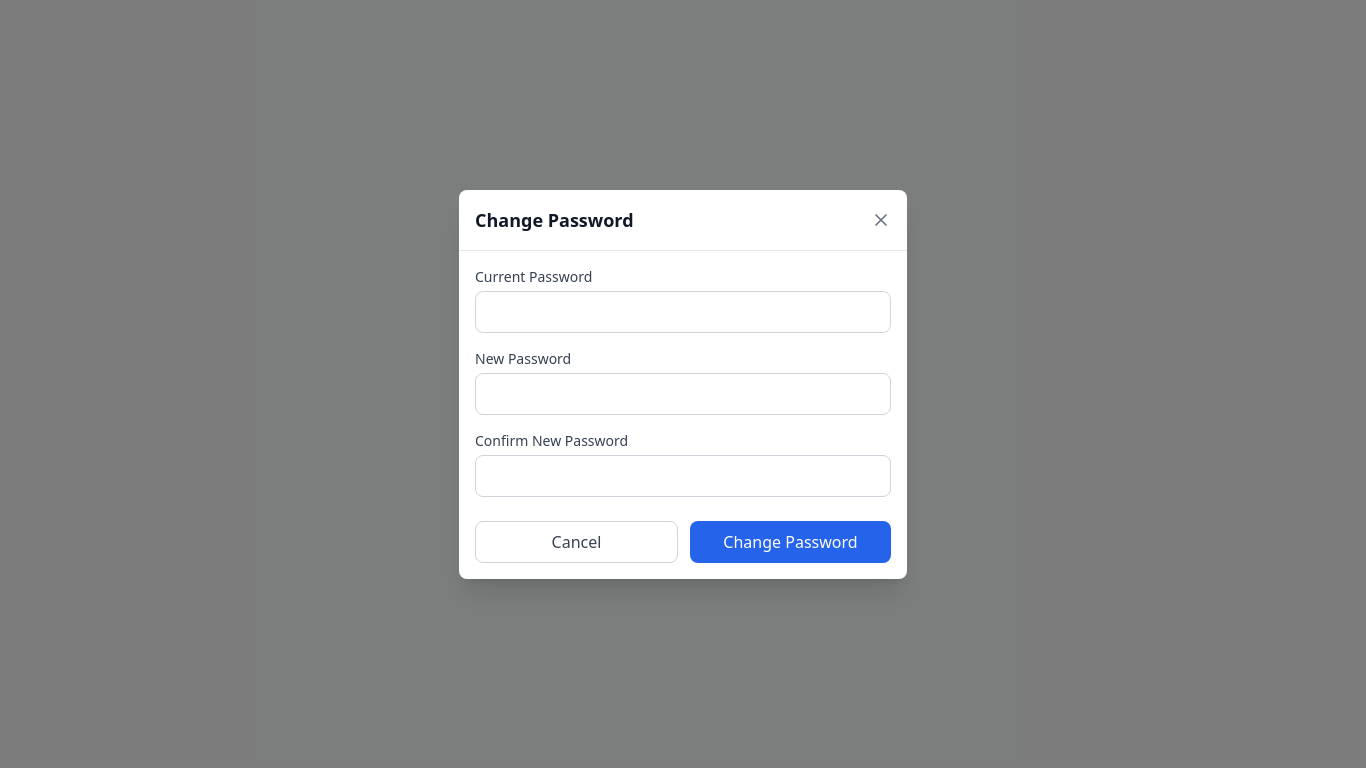
Test case: PasswordChangeModal › shows error when passwords don't match
The image size is (1366, 768).
Type "oldpass" into the password field labelled "Current Password" at (683, 312), box 475,290 -> 891,332
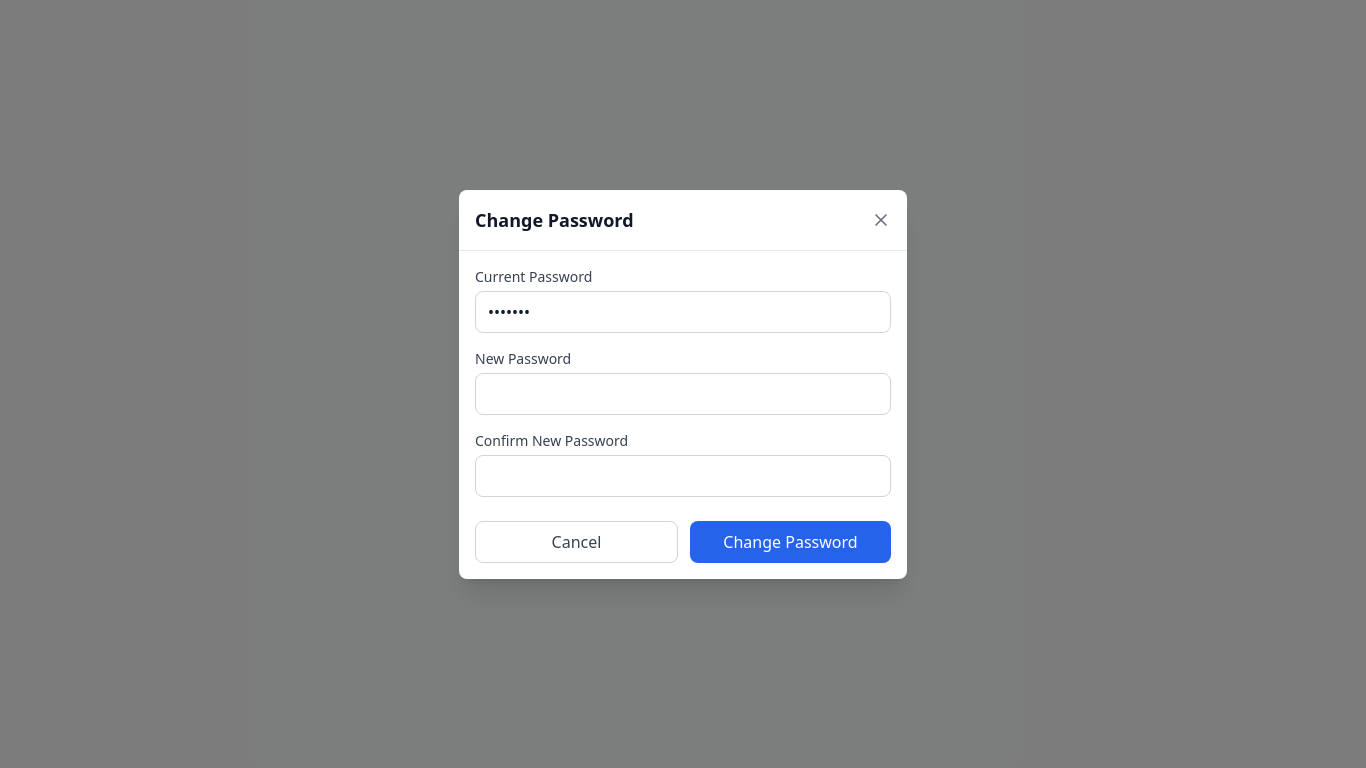
Type "newpass123" into the password field labelled "New Password" at (683, 394), box 475,372 -> 891,414
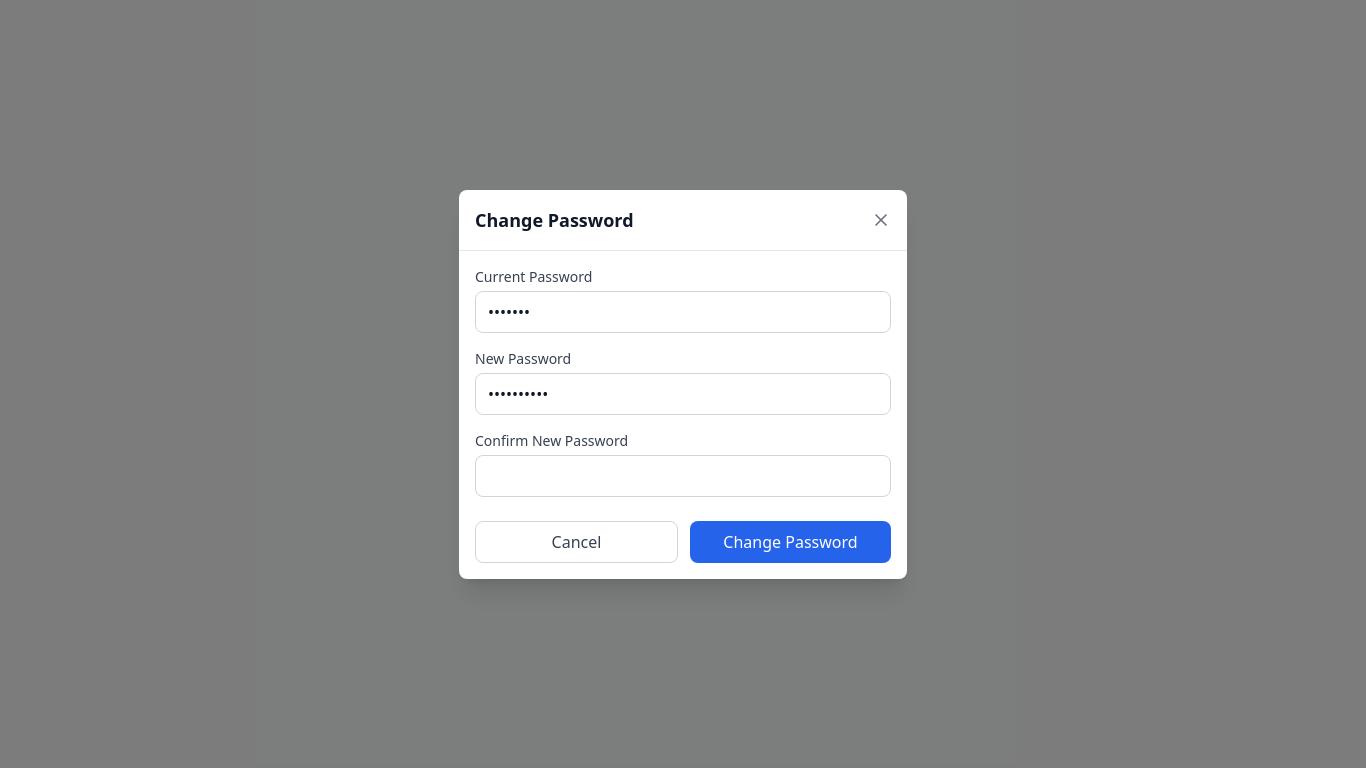
Type "different" into the password field labelled "Confirm New Password" at (683, 476), box 475,454 -> 891,496
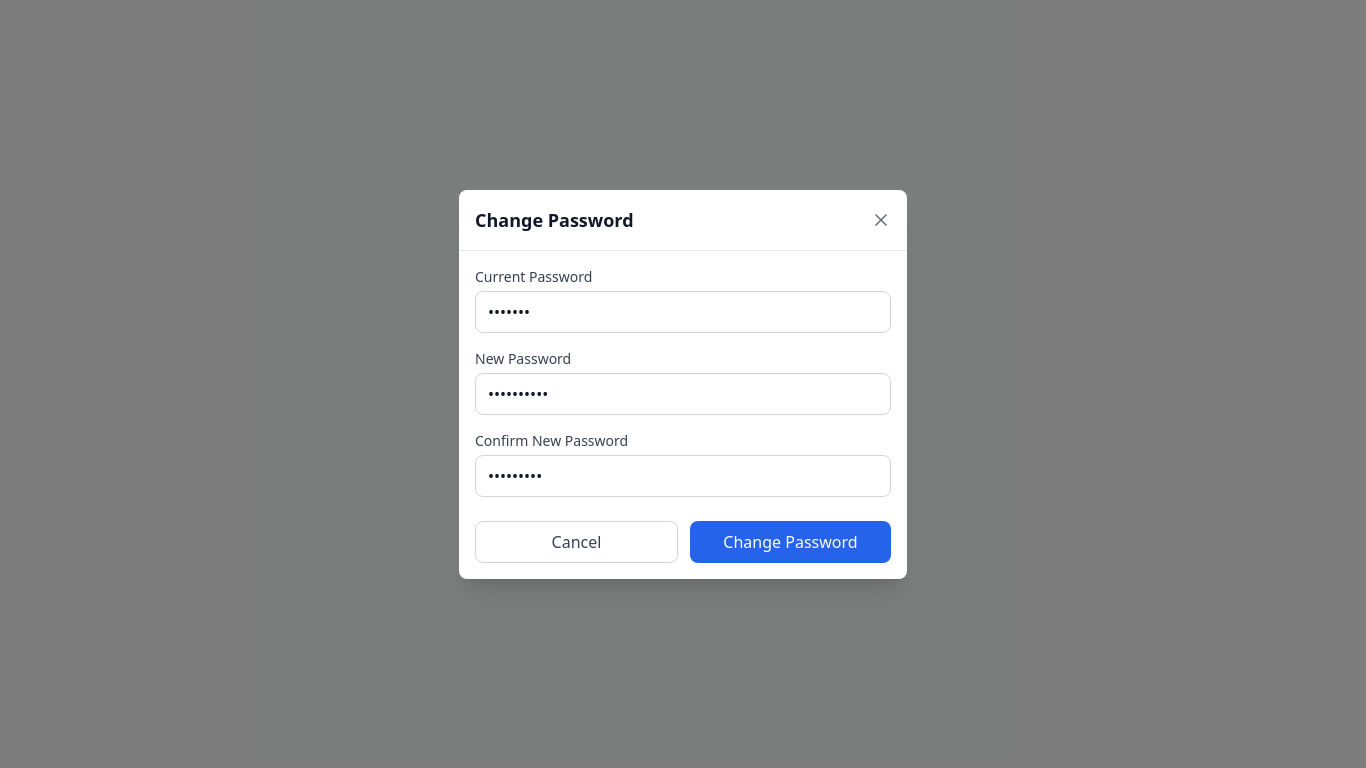
Click the button "Change Password" at (790, 542), box 690,520 -> 891,562
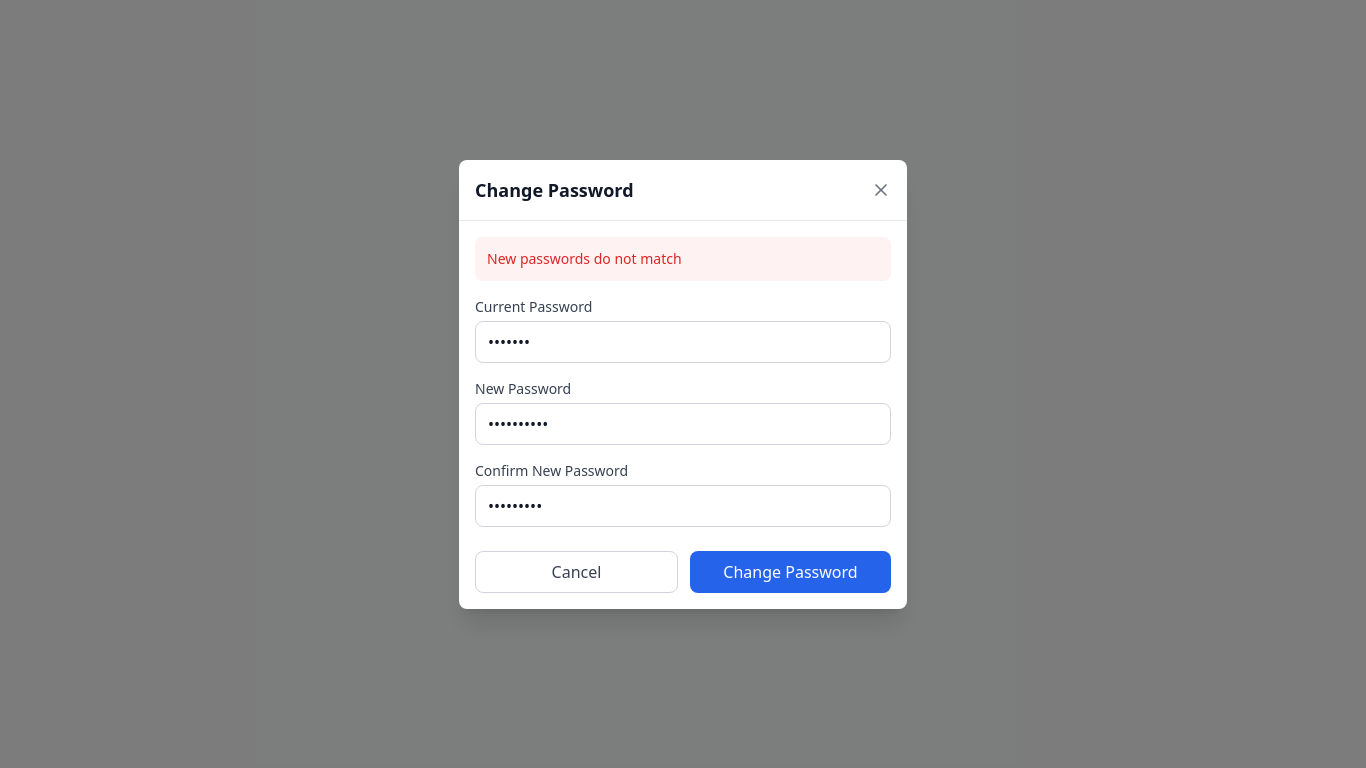
Expected: the text "New passwords do not match" is shown, 475,236 -> 891,280
